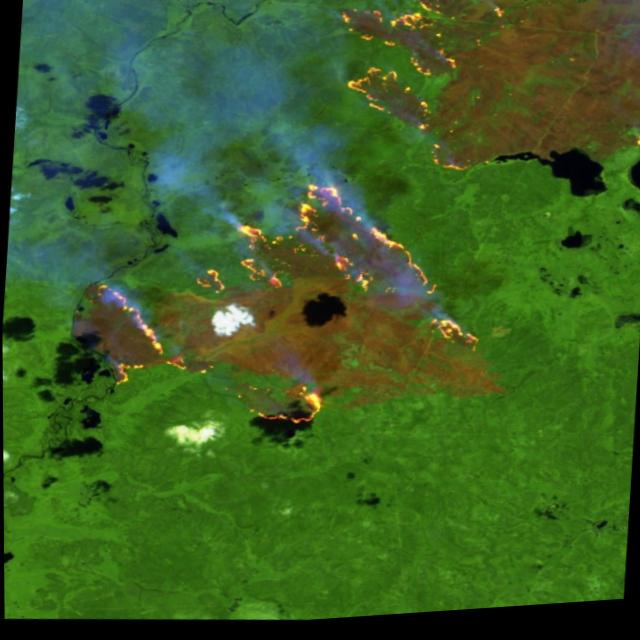fire: (85, 162, 495, 453), (328, 0, 516, 188)
